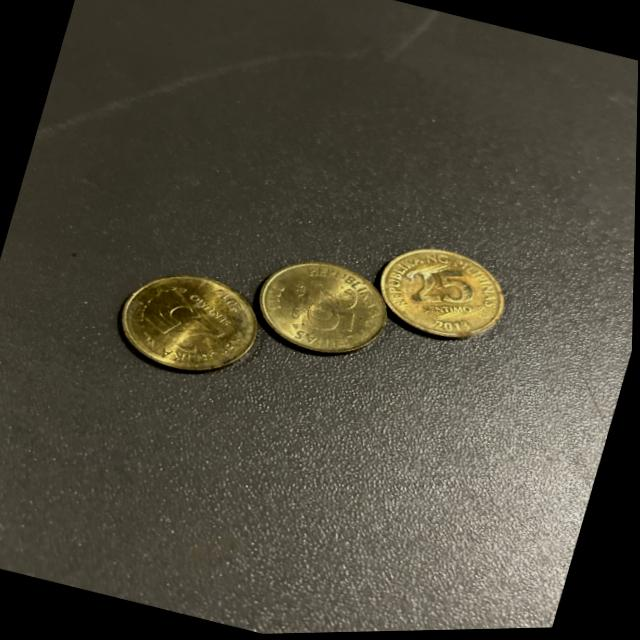25Cent_Old_Front: (393, 251, 497, 330)
